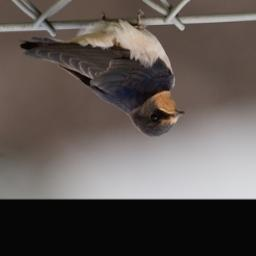Swallow: (18, 10, 186, 139)
